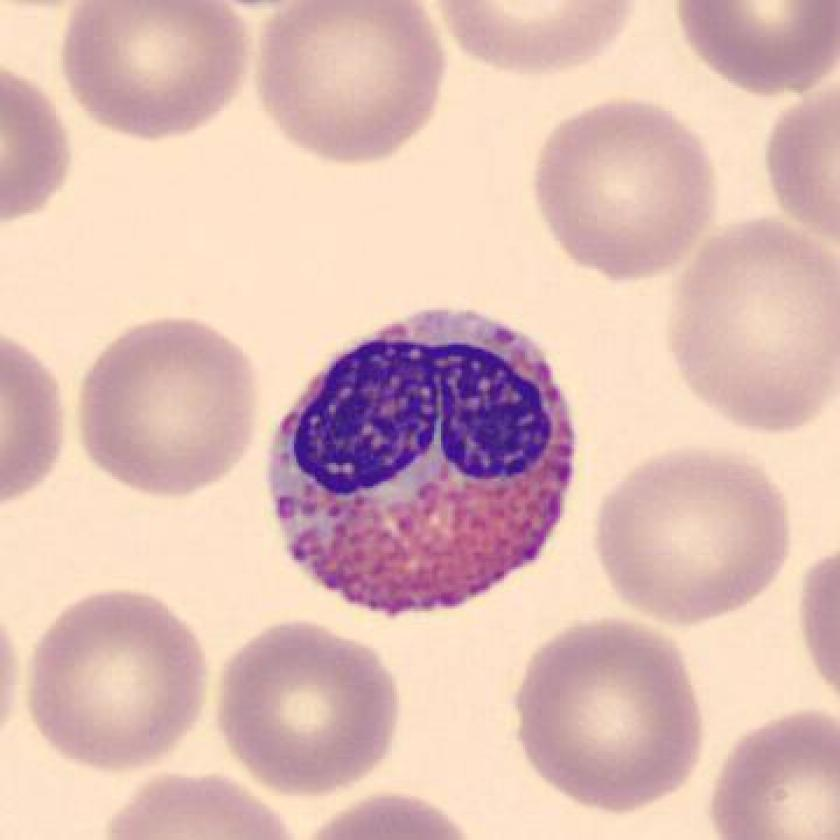eosinophil: (260, 300, 589, 633)
